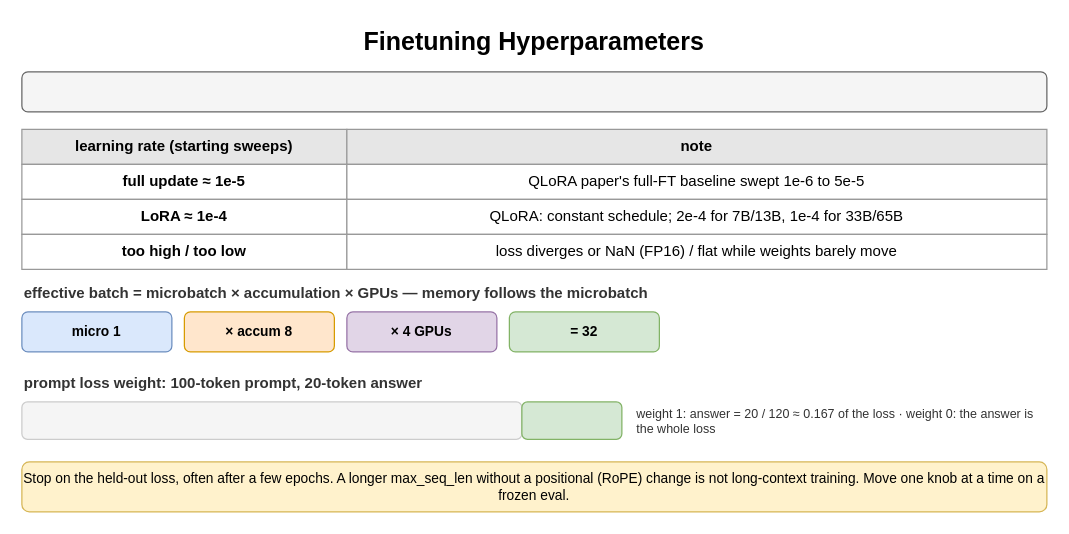
This 1069x534 diagram has some shape labels left out. Each missing label, with the centre of its shape:
answer 20: the point at 571,420
Learning rate, batch, passes, and how much of the prompt the loss sees: the point at 534,91
prompt 100: the point at 271,420
